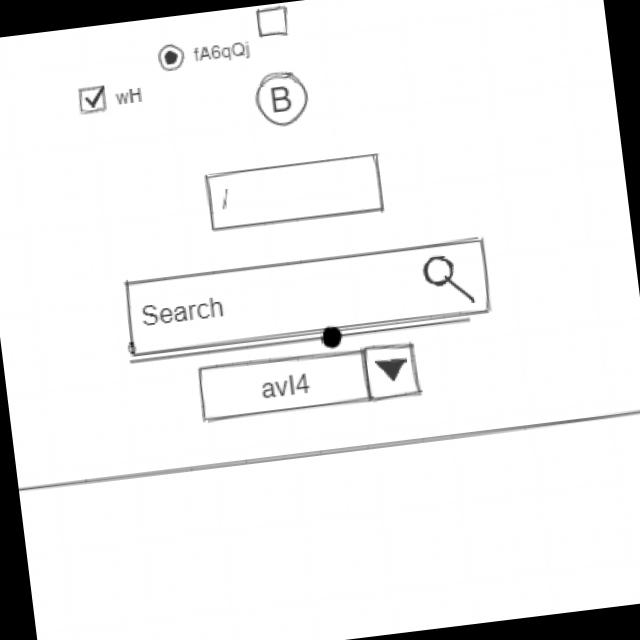checkbox: (74, 76, 148, 116)
container: (17, 404, 640, 640), (250, 1, 292, 38)
icon-button: (249, 66, 311, 130)
input: (202, 148, 390, 236)
radio: (155, 31, 254, 72)
search: (117, 232, 496, 359)
select: (192, 336, 426, 426)
slider: (138, 306, 476, 372)
